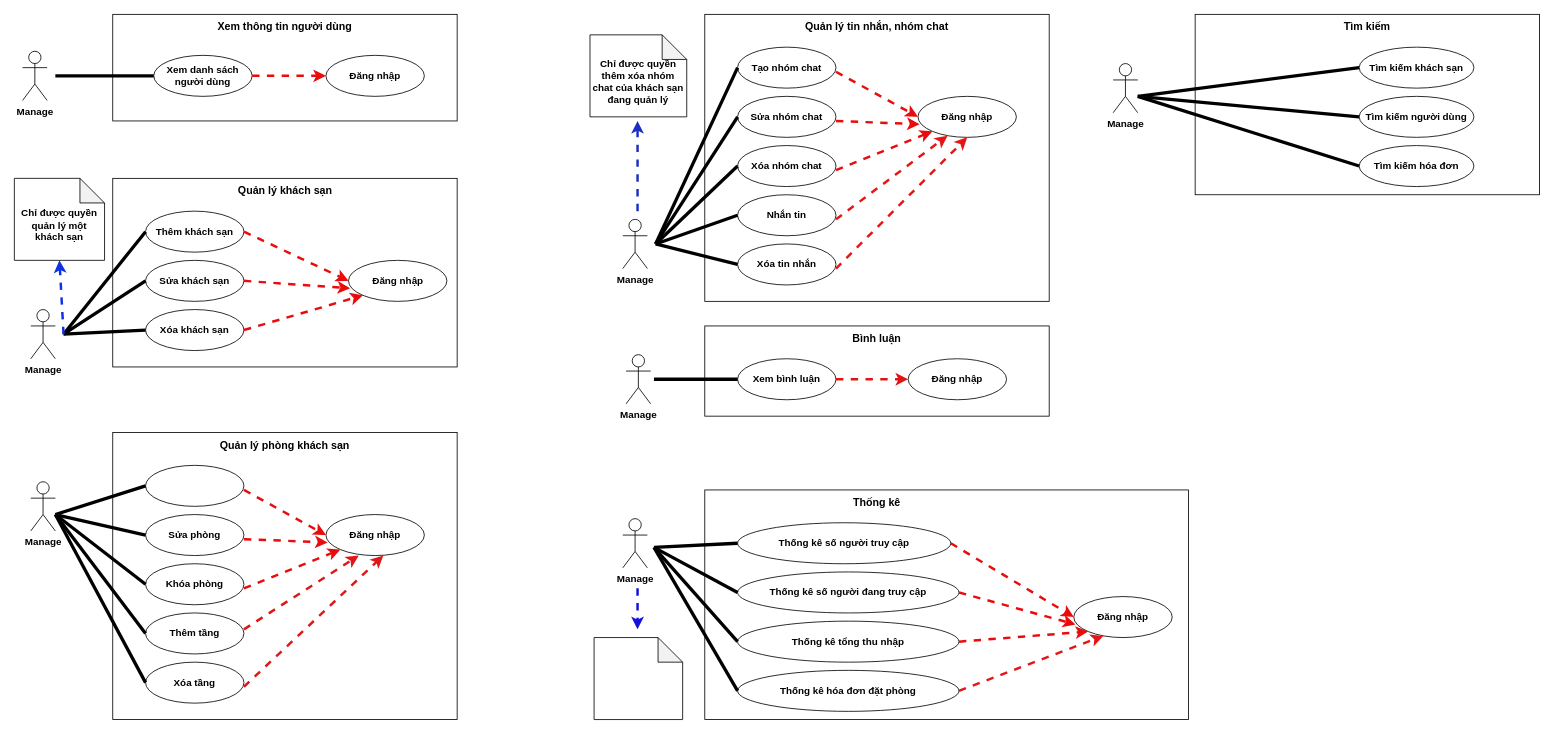
Image size: 1554x734. Some labels were removed from this diagram. Here are the shapes that lost their labels. From the top down, the box of each, then its label:
(145, 465, 244, 506): Thêm phòng
(593, 637, 683, 720): Chỉ được quyền thống kê trong phạm vi một khách sạn
